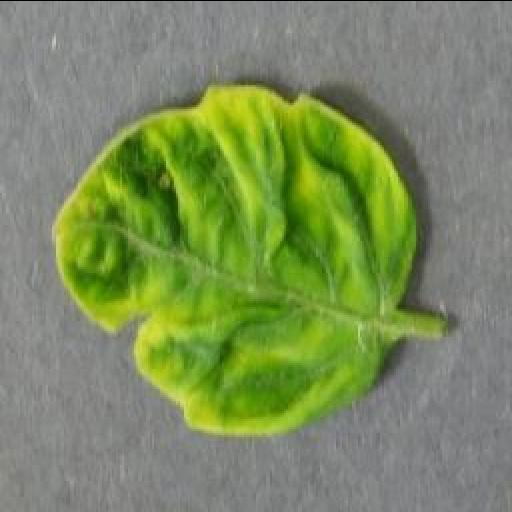disease_tomato: (48, 80, 416, 434)
